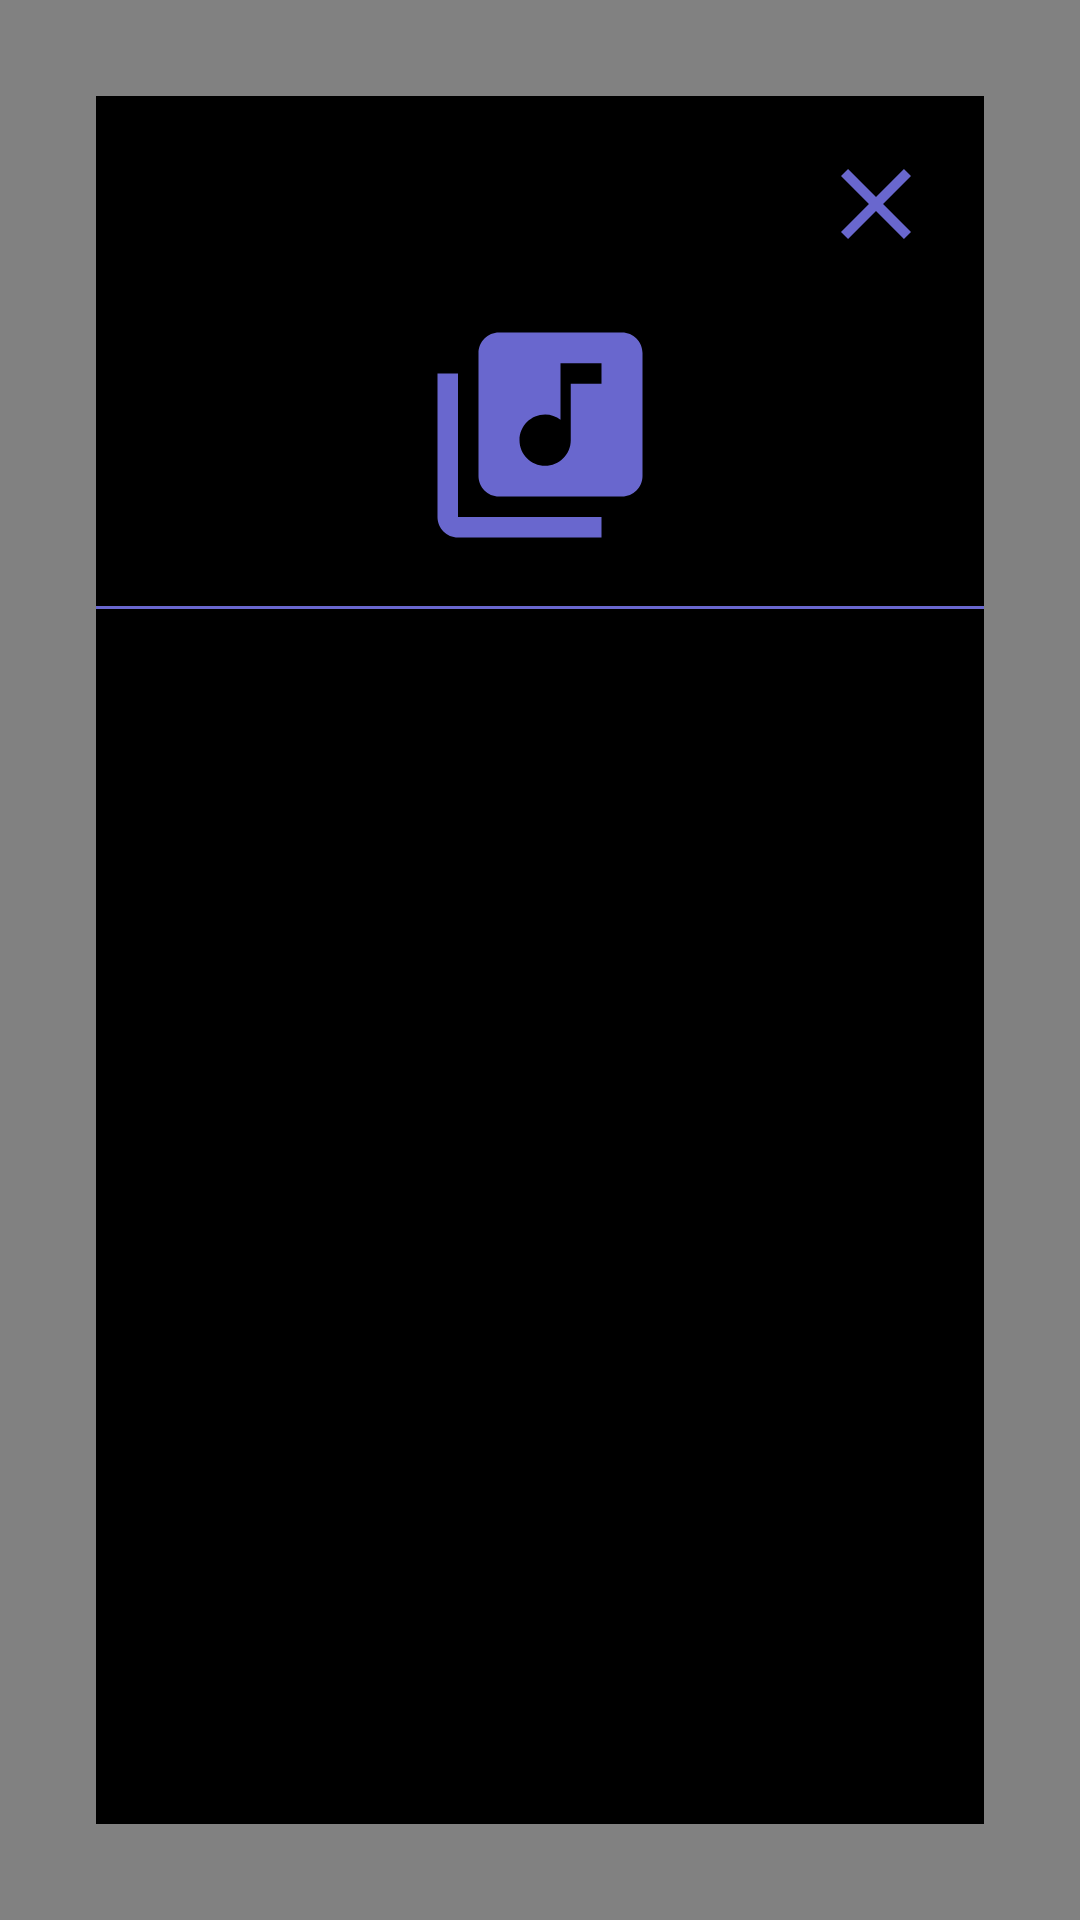

Icon bounding boxes for this 1080px x 1920px phone screenshot, format (left=x1, top=y1, right=x2, bottom=y2):
cancel: (left=841, top=169, right=911, bottom=239)
music: (left=437, top=332, right=643, bottom=538)
